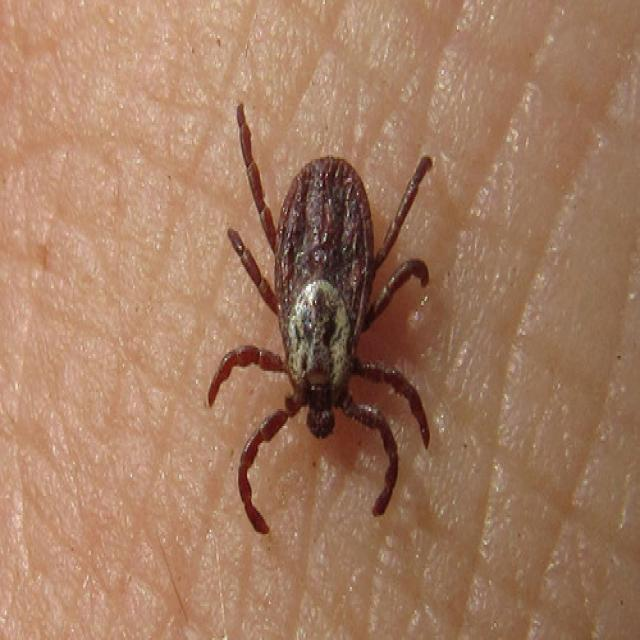Dermacentor Reticulatus-F: (207, 104, 433, 538)
